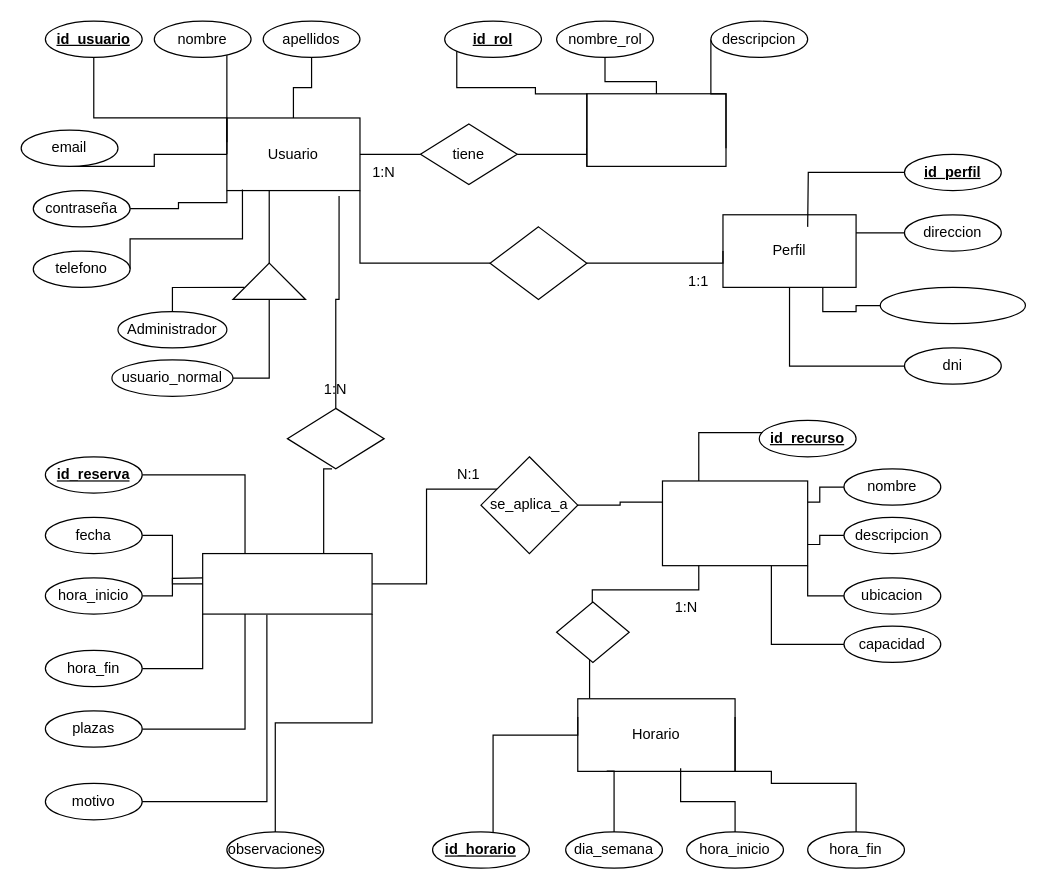
This 1047x889 diagram has some shape labels left out. The centre of each missing label's shape, as x and y in pixels:
dispone de: point 592,631
fecha_nacimiento: point 952,305
posee: point 538,262
Recurso: point 734,523
resera: point 335,438
Reservas: point 286,583
Rol: point 656,129
